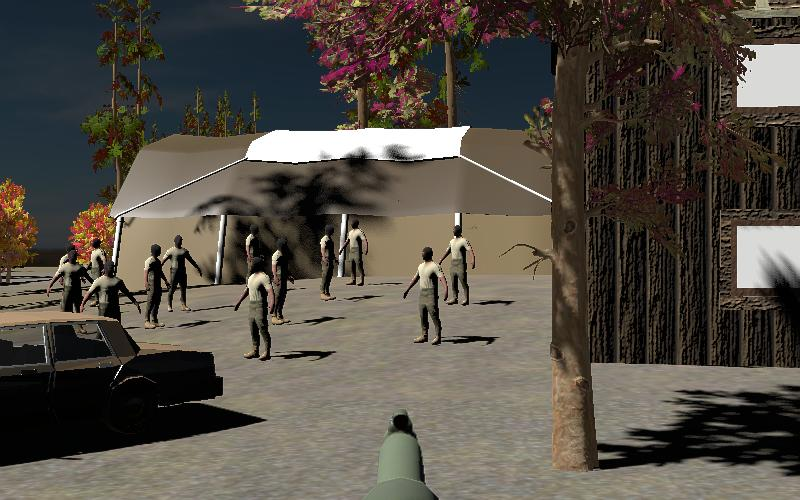Human: (400, 243, 451, 348), (232, 247, 276, 364), (160, 232, 204, 314), (437, 223, 479, 307), (45, 250, 94, 314), (141, 240, 172, 330), (268, 233, 296, 326), (338, 216, 372, 289), (317, 221, 340, 303)
car: (0, 307, 226, 441), (1, 308, 227, 440)
